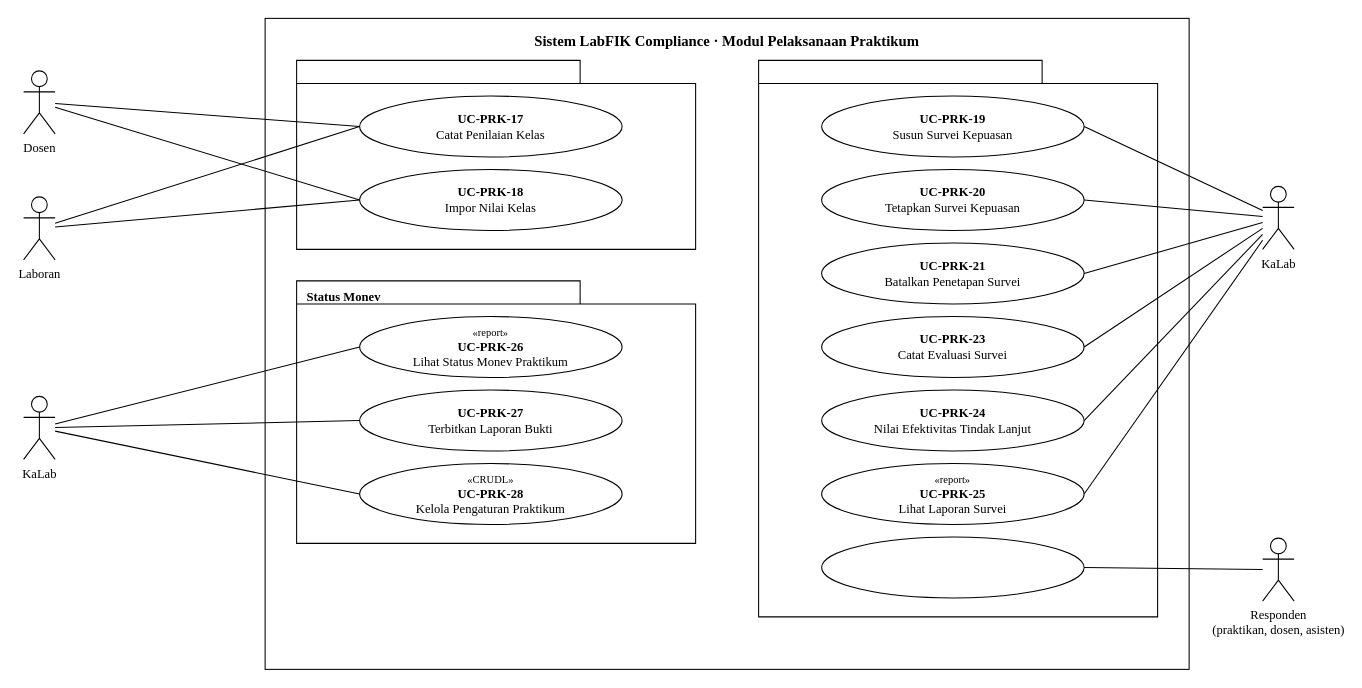
Image size: 1362x688. Some labels were removed from this diagram. The shapes that lost their labels are listed below. From the top down, each one's box as (x1, y1, x2, y2) in pixels, then its label:
(296, 59, 696, 249): Penilaian Individual (PKG-19)
(758, 59, 1158, 617): Kepuasan Pengguna (PKG-20)
(821, 536, 1084, 598): UC-PRK-22 Isi Survei Kepuasan
